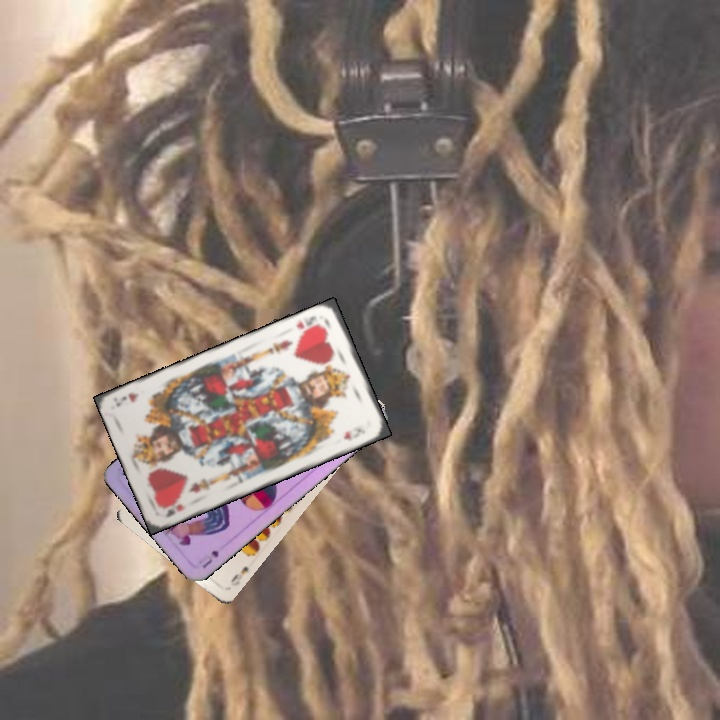E9: (226, 562, 252, 589)
HK: (292, 312, 326, 335), (162, 500, 189, 520)
SU: (198, 546, 222, 571)
